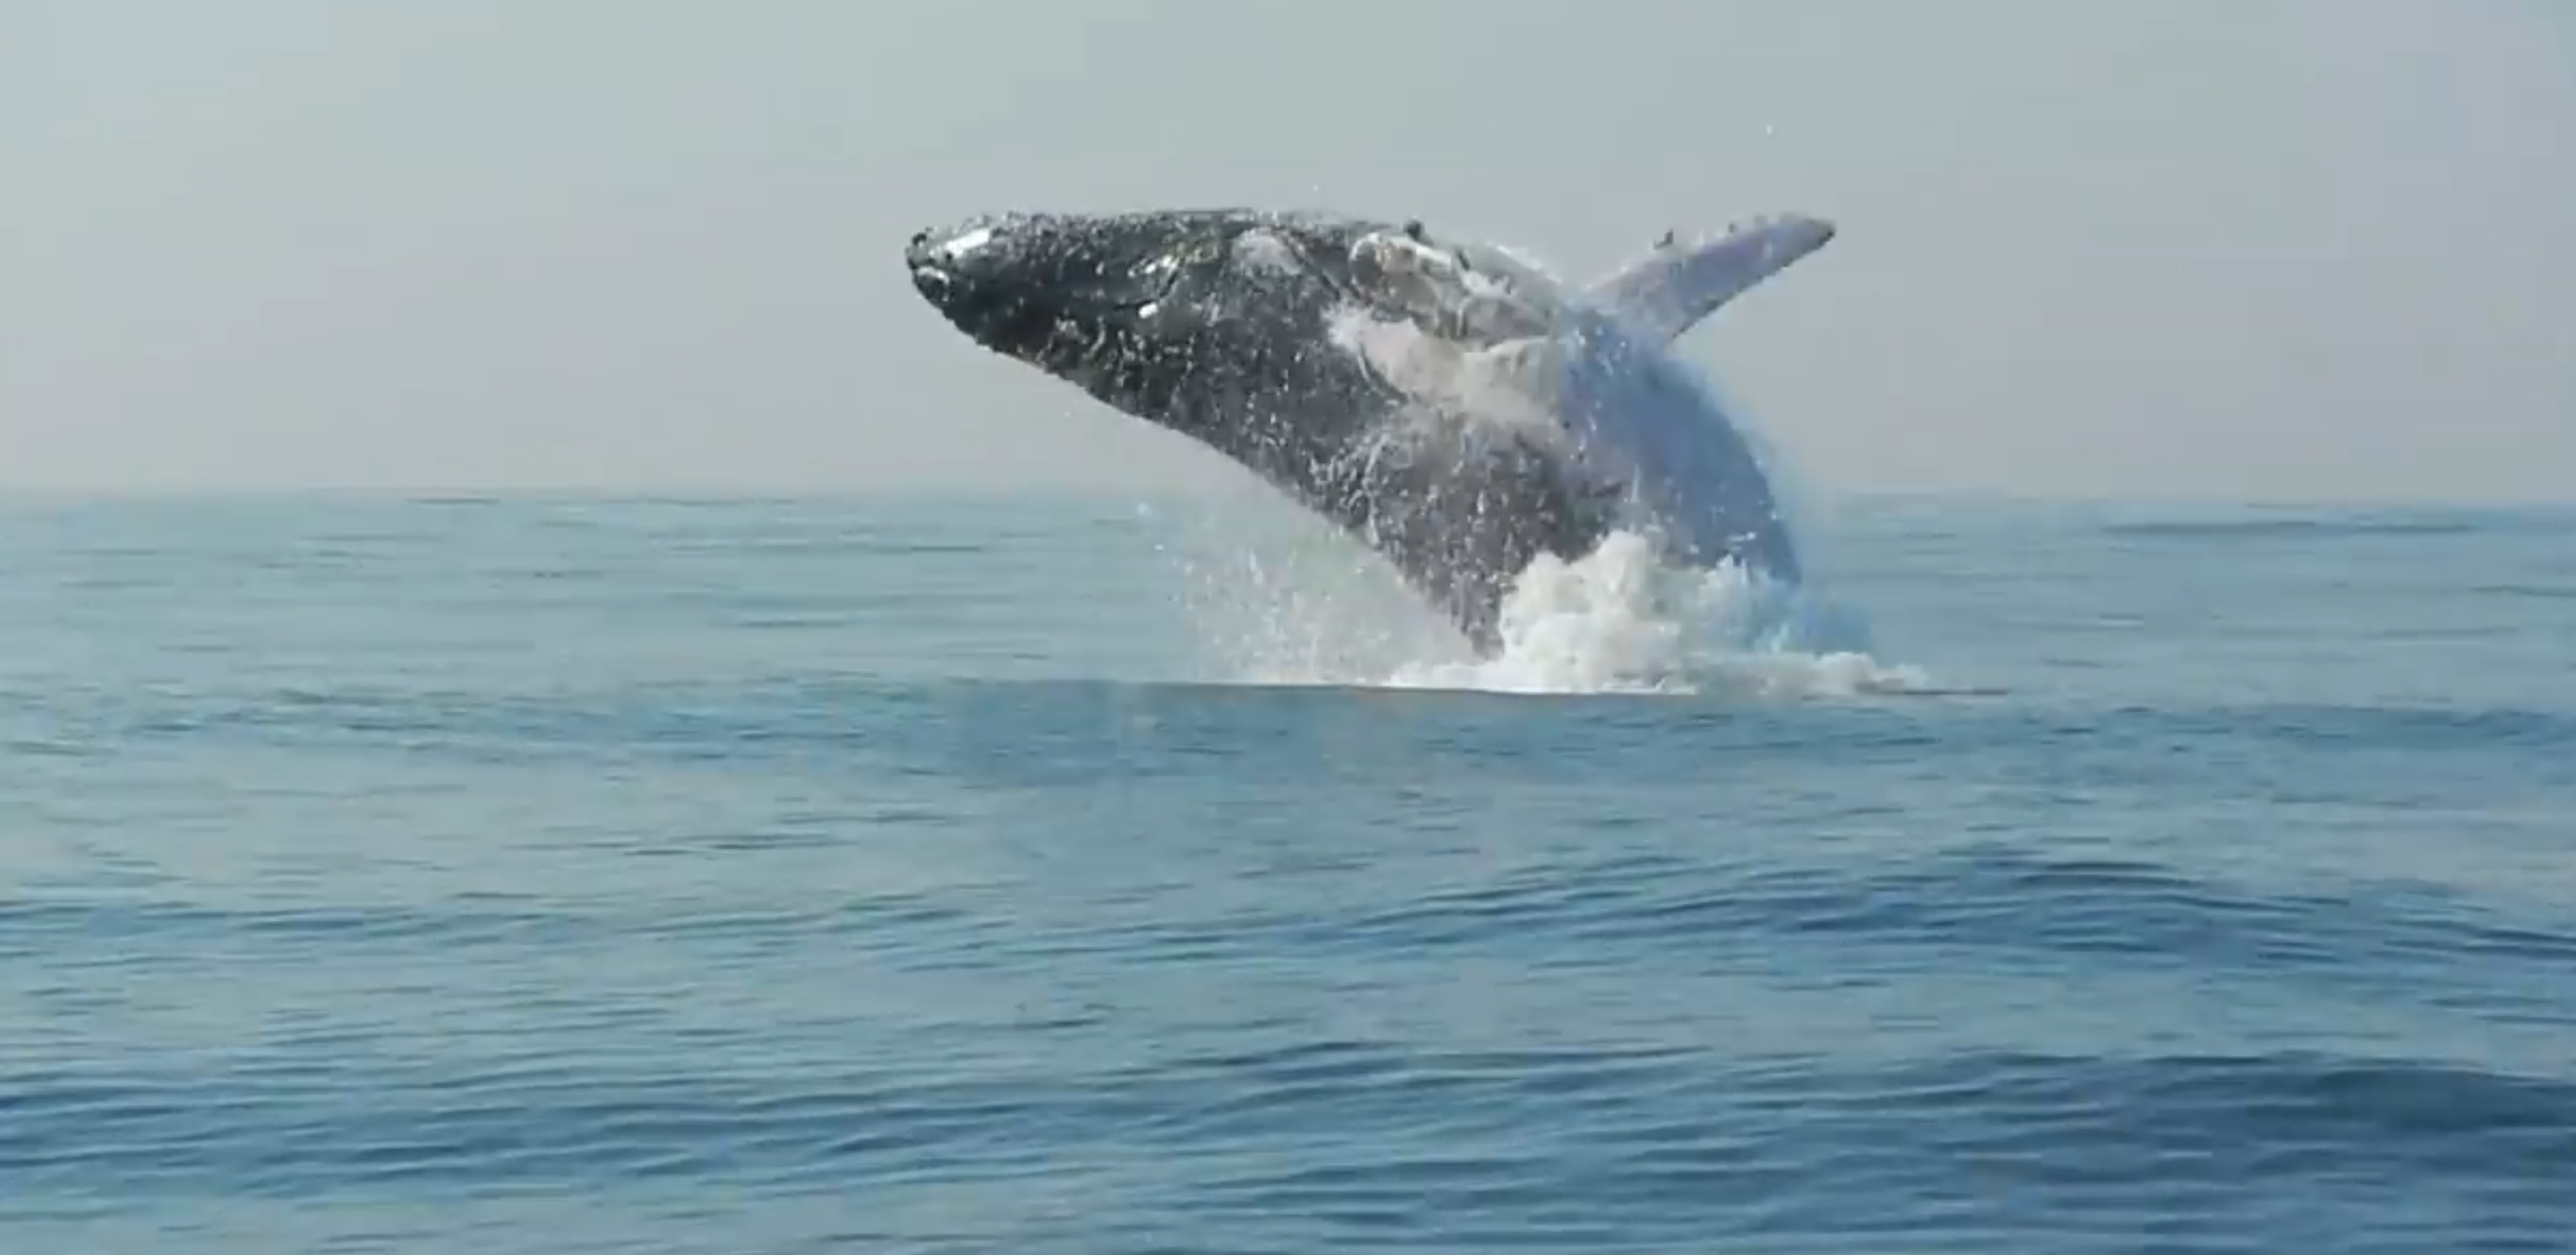humpback: (900, 197, 1804, 667)
